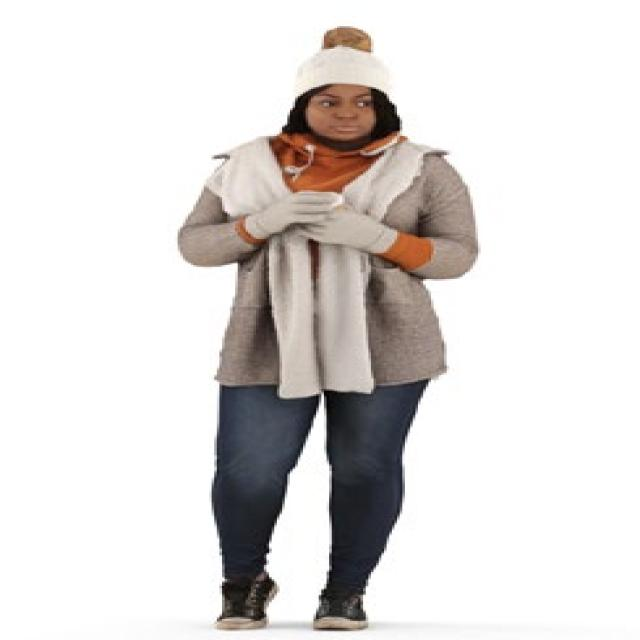standing: (172, 23, 492, 636)
